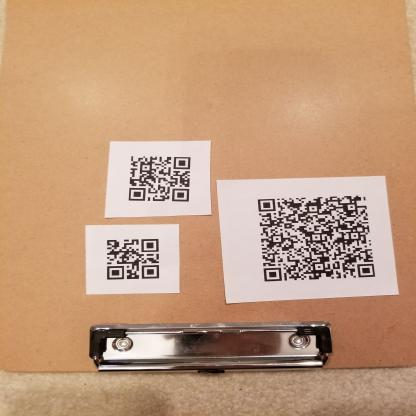qr: (255, 188, 380, 283), (127, 151, 191, 206), (103, 235, 160, 281)
